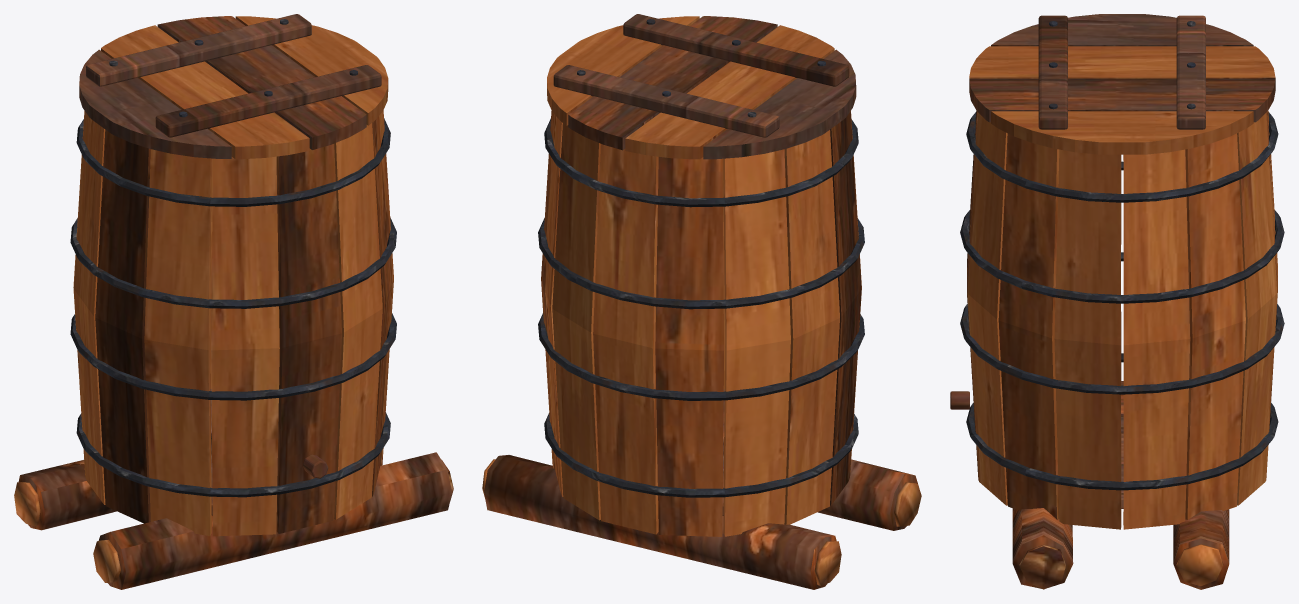
Rendered from mg_water_butt.glb.
3 renders of one model, left to right at view 1: azimuth 30°, elevation 25°; view 2: azimuth 150°, elevation 25°; view 3: azimuth 270°, elevation 25°, orthographic.
Parts seen in each view (by area): view 1: model; view 2: model; view 3: model.
Boxes of the visible parts, x1,y1,x2,y2 form: model: [14, 14, 453, 589]; model: [482, 14, 921, 589]; model: [950, 14, 1284, 589].
Size of the model in its own units: 0.784 by 1 by 0.6802.
Materials: 10 (10 with a texture image).
